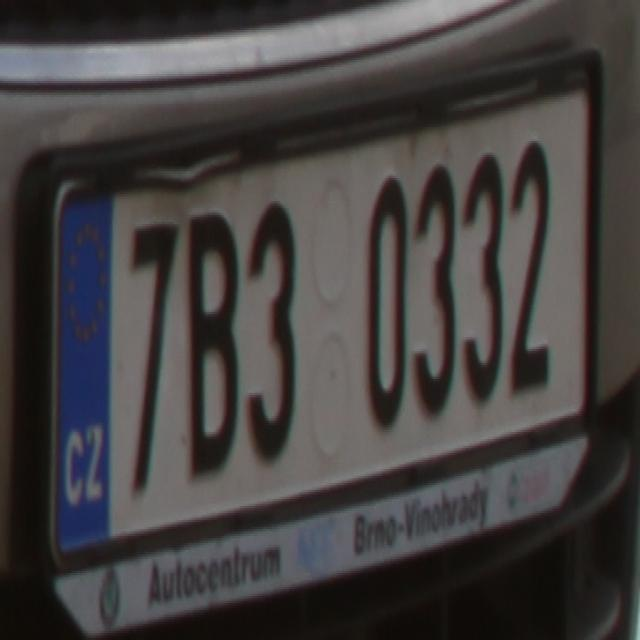0: (364, 171, 406, 430)
2: (510, 139, 550, 388)
3: (247, 199, 299, 455), (460, 148, 502, 402), (413, 166, 455, 414)
7: (127, 222, 175, 494)
B: (186, 211, 239, 478)
